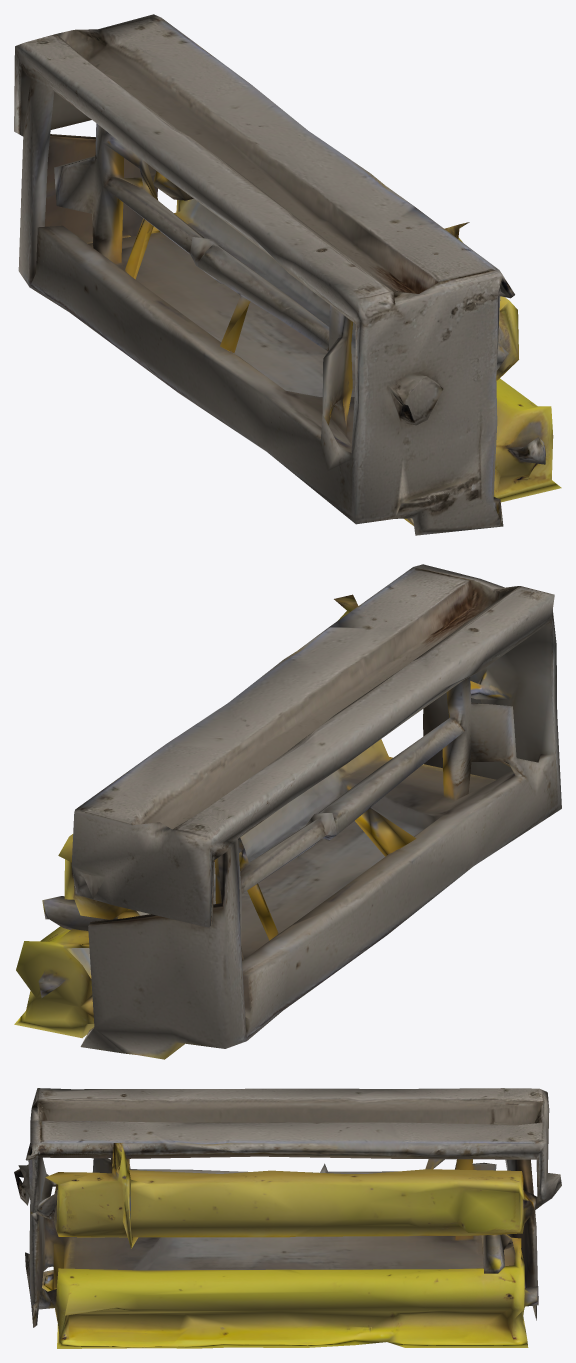
The model's file is fluorescente.glb.
3 views of the same model, one above another, from view 1: azimuth 30°, elevation 25°; view 2: azimuth 150°, elevation 25°; view 3: azimuth 270°, elevation 25° (orthographic). The views are drawn at different scales.
Visible parts, largest first — view 1: tripo_node_88dc4d60-0820-4a31-acd8-b3f5cdd7aea9; view 2: tripo_node_88dc4d60-0820-4a31-acd8-b3f5cdd7aea9; view 3: tripo_node_88dc4d60-0820-4a31-acd8-b3f5cdd7aea9.
Part boxes in pixels (bbox=[...]): tripo_node_88dc4d60-0820-4a31-acd8-b3f5cdd7aea9: bbox=[14, 14, 561, 535]; tripo_node_88dc4d60-0820-4a31-acd8-b3f5cdd7aea9: bbox=[14, 564, 561, 1059]; tripo_node_88dc4d60-0820-4a31-acd8-b3f5cdd7aea9: bbox=[14, 1088, 561, 1348].
Bounding box in the file's own units: 0.3483 × 0.3884 × 1.
Materials: 1 (1 with a texture image).
